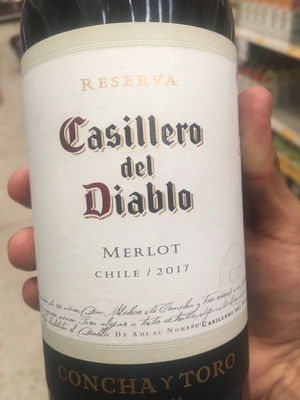casillero del diablo merlot: (18, 11, 265, 400)
